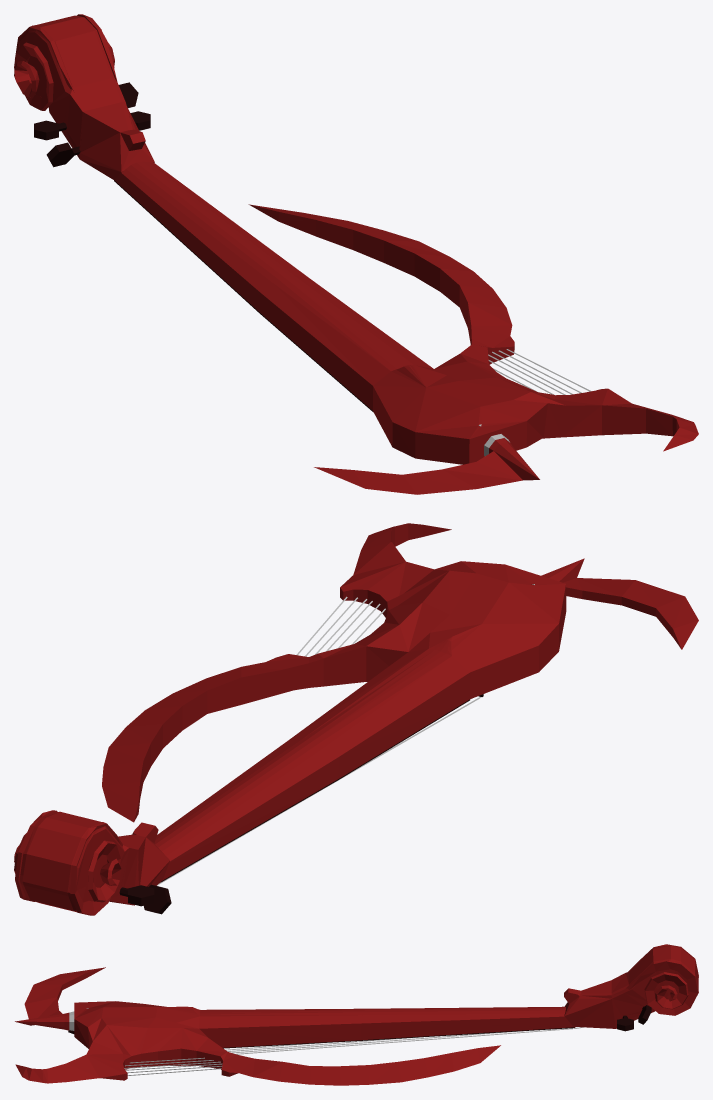
Rendered from AXE_V3.fbx.
3 renders of one model, top to bottom at view 1: azimuth 30°, elevation 25°; view 2: azimuth 150°, elevation 25°; view 3: azimuth 270°, elevation 25°, orthographic. The views are drawn at different scales.
Parts seen in each view (by area): view 1: Line004; view 2: Line004; view 3: Line004.
Boxes of the visible parts, <box> form: Line004: <box>14,14,698,494</box>; Line004: <box>14,523,698,915</box>; Line004: <box>15,944,698,1085</box>.
Bounding box in the file's own units: 70.72 × 31.4 × 183.
